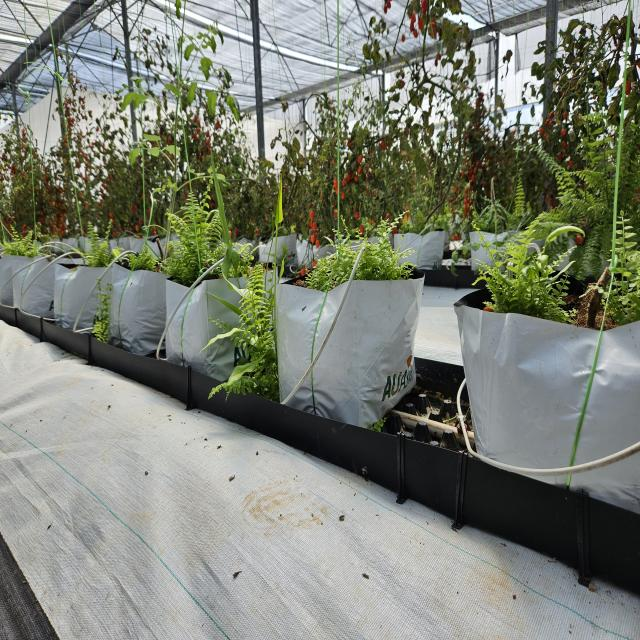Soilbag: (445, 276, 640, 501), (279, 257, 433, 432), (162, 261, 267, 365), (108, 257, 169, 347), (51, 261, 113, 333)
